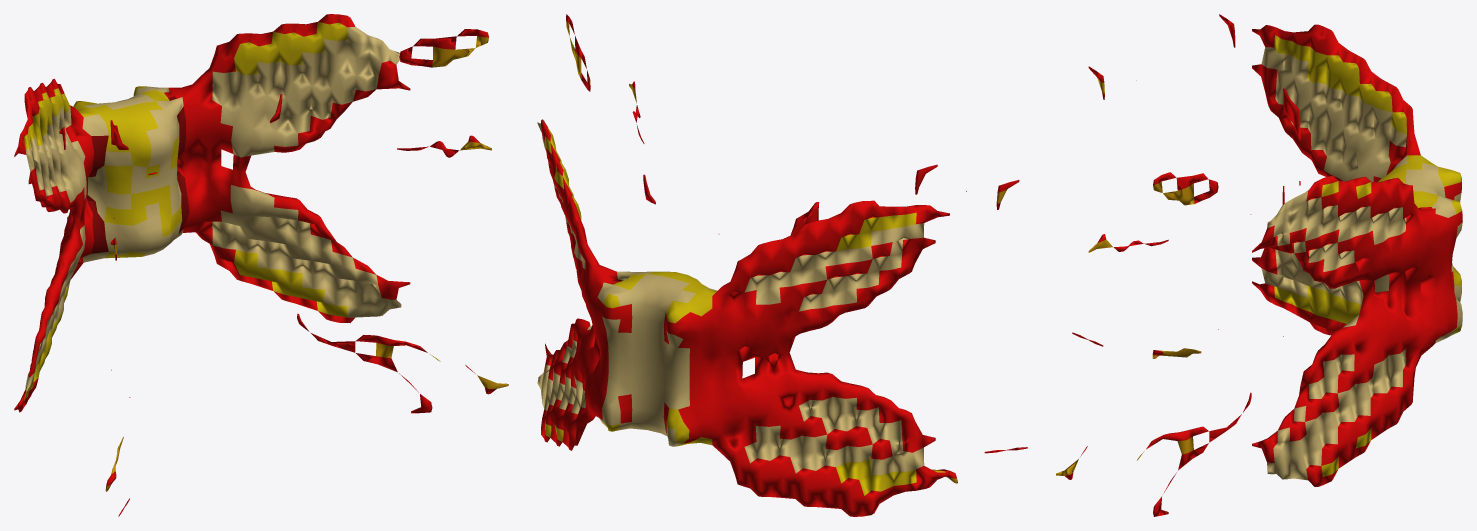
3 renders of one model, left to right at view 1: azimuth 30°, elevation 25°; view 2: azimuth 150°, elevation 25°; view 3: azimuth 270°, elevation 25°, orthographic. The views are drawn at different scales.
Bounding box in the file's own units: 1.5 × 1.25 × 1.25.
